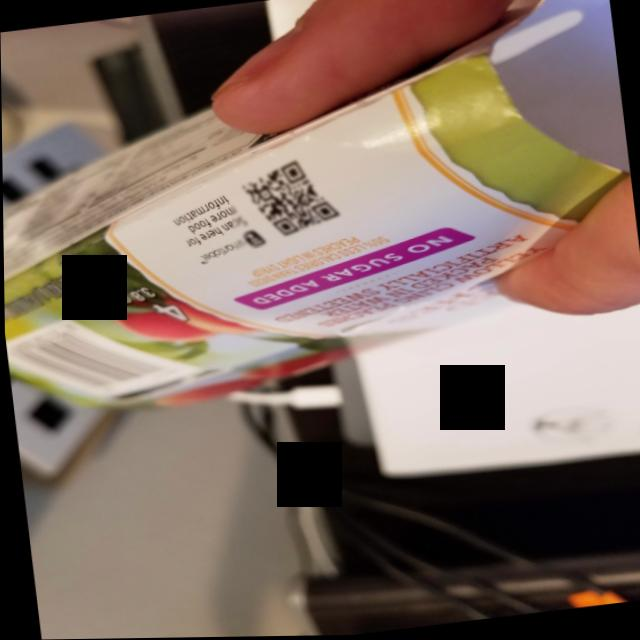QR_CODE: (224, 148, 357, 251)
